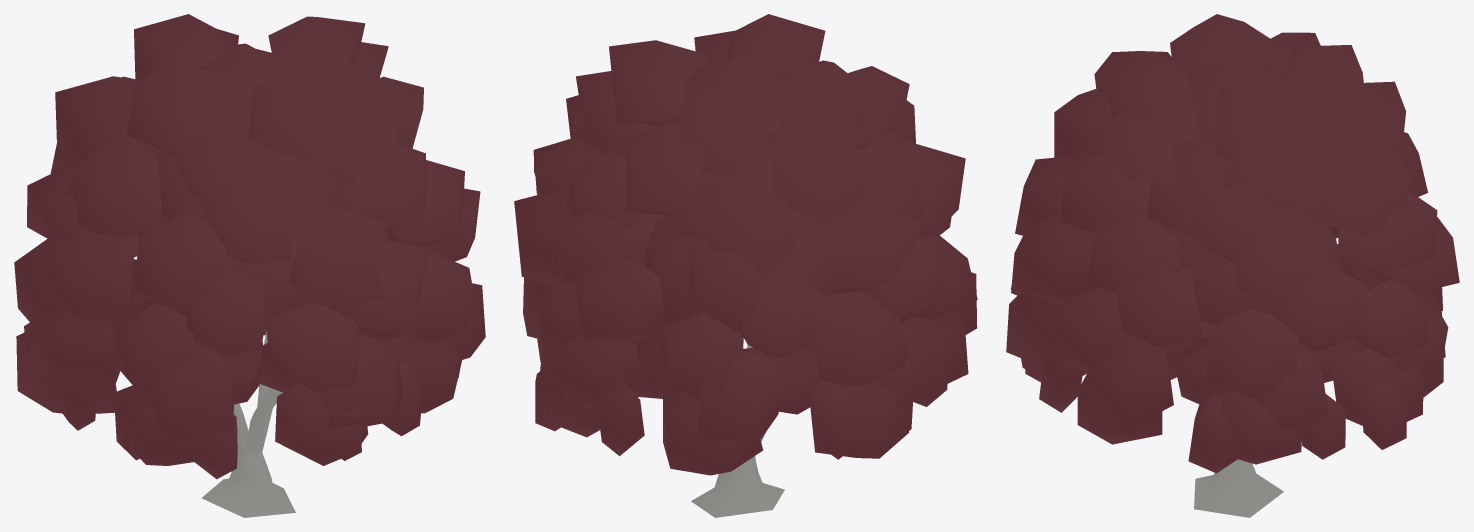
Rendered from Blender_CopperBeech_1_Far.glb.
3 renders of one model, left to right at view 1: azimuth 30°, elevation 25°; view 2: azimuth 150°, elevation 25°; view 3: azimuth 270°, elevation 25°, orthographic. The views are drawn at different scales.
Visible parts, largest first — view 1: Blender_CopperBeech_1_Far; view 2: Blender_CopperBeech_1_Far; view 3: Blender_CopperBeech_1_Far.
Part boxes in pixels (x1,y1,x2,y2): Blender_CopperBeech_1_Far: [14, 14, 485, 517]; Blender_CopperBeech_1_Far: [514, 14, 977, 517]; Blender_CopperBeech_1_Far: [1006, 14, 1459, 517].
Bounding box in the file's own units: 23.65 × 25.95 × 23.79.
